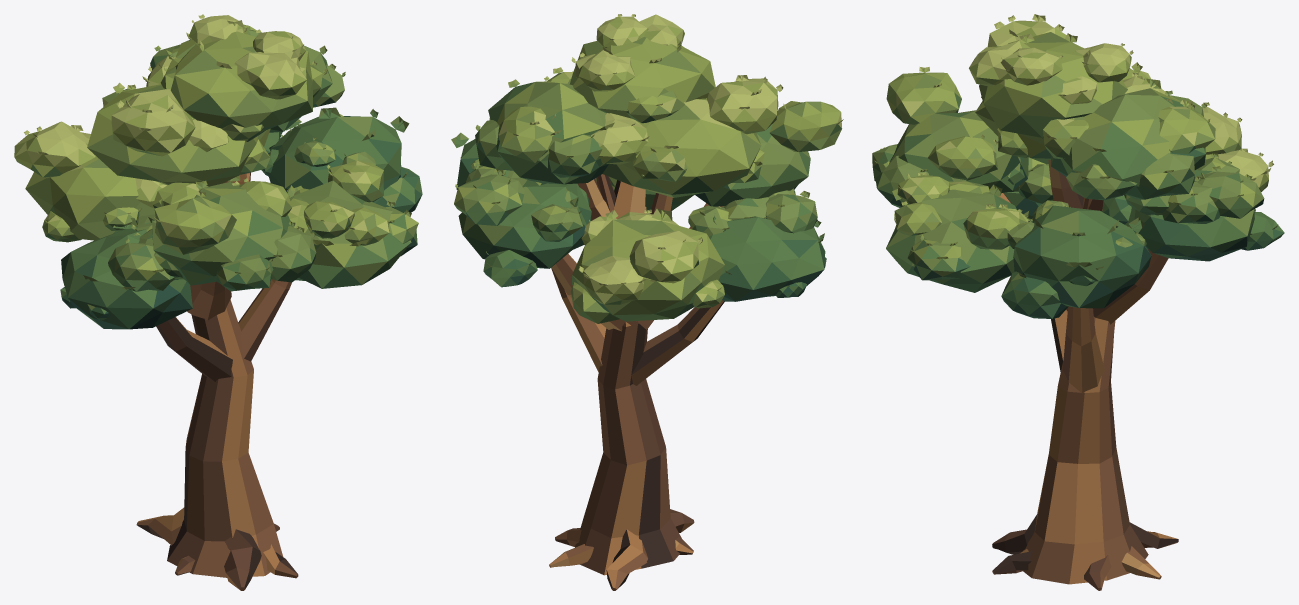
File: young-oak.glb
3 renders of one model, left to right at view 1: azimuth 30°, elevation 25°; view 2: azimuth 150°, elevation 25°; view 3: azimuth 270°, elevation 25°, orthographic. The views are drawn at different scales.
Parts seen in each view (by area): view 1: Crown, Trunk and roots, Leaves; view 2: Crown, Trunk and roots, Leaves; view 3: Crown, Trunk and roots, Leaves.
Part boxes in pixels (bbox=[...]): Crown: bbox=[14, 15, 422, 329]; Trunk and roots: bbox=[136, 172, 298, 590]; Leaves: bbox=[24, 14, 411, 289]; Crown: bbox=[454, 14, 842, 323]; Trunk and roots: bbox=[549, 174, 724, 590]; Leaves: bbox=[451, 14, 843, 290]; Crown: bbox=[872, 20, 1284, 318]; Trunk and roots: bbox=[992, 160, 1178, 590]; Leaves: bbox=[874, 14, 1277, 278].
Bounding box in the file's own units: 2 × 2.8 × 2.
